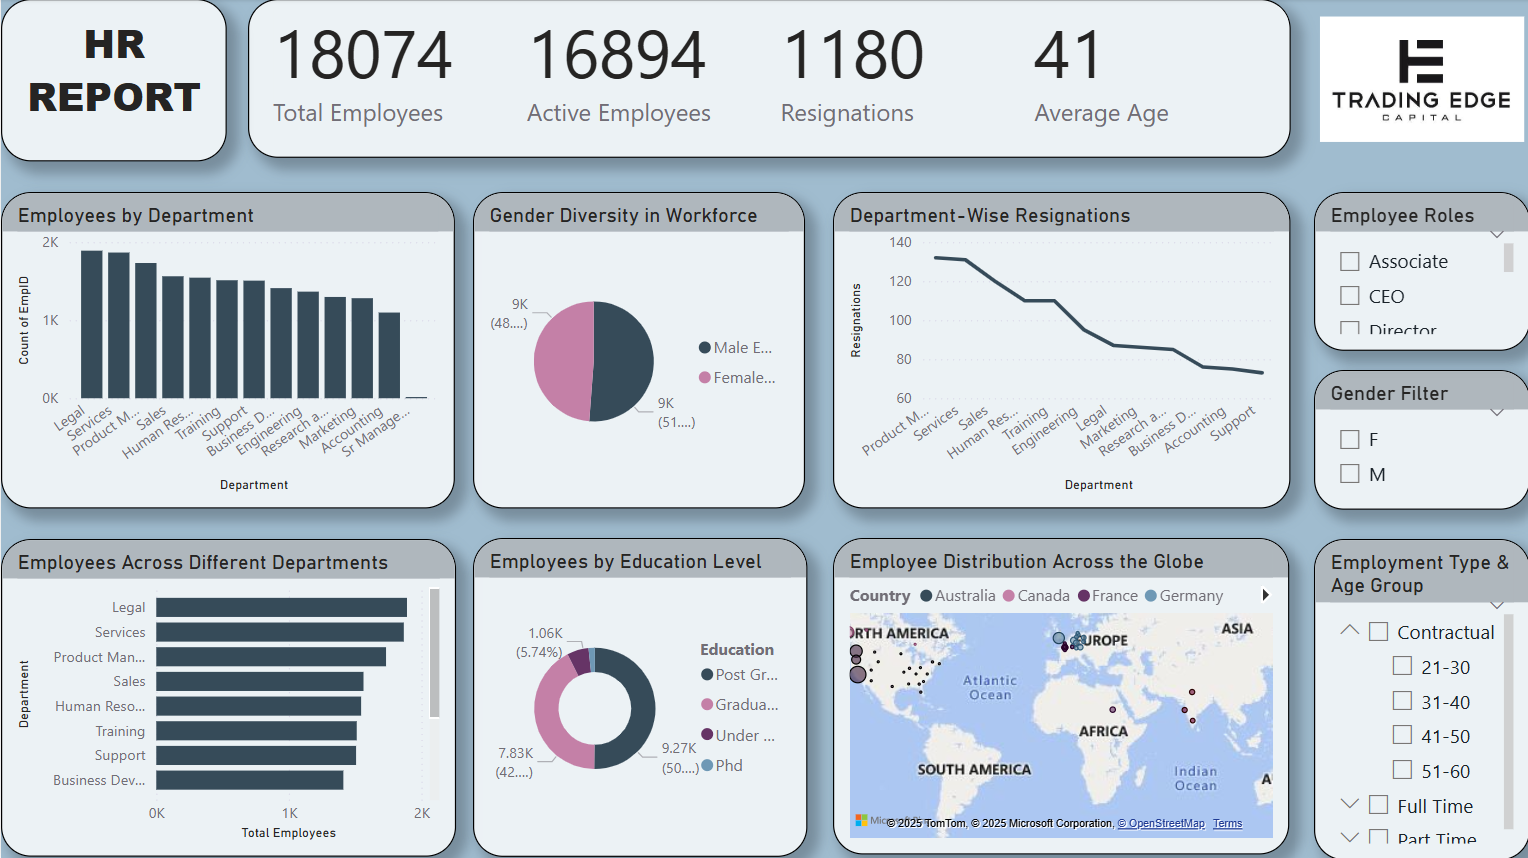

This screenshot's page, from the dashboard's own definition file:
{"tool":"powerbi","page":{"name":"Report","canvas":[1280,720],"ordinal":1},"visuals":[{"type":"multiRowCard","fields":{"Values":["HR_Data.Total Employees","HR_Data.Active Employees","HR_Data.Resignations","Database.Average Age"]},"box":[207,0,872.8,132.8],"z":0},{"type":"columnChart","title":"Employees by Department","fields":{"Category":["Database.Department"],"Y":["CountNonNull(HR_Data.EmpID)"]},"box":[0,161.7,380,265],"z":1000},{"type":"textbox","box":[0,0,189.4,136],"z":2000},{"type":"pieChart","title":"Gender Diversity in Workforce","fields":{"Y":["Database.Male Employees","Database.Female Employees"]},"box":[395,161.7,278.3,265],"z":3000},{"type":"lineChart","title":"Department-Wise Resignations","fields":{"Category":["Database.Department"],"Y":["HR_Data.Resignations"]},"box":[696.7,161.7,383.3,265],"z":4000},{"type":"barChart","title":"Employees Across Different Departments","fields":{"Category":["Database.Department"],"Y":["HR_Data.Total Employees"]},"box":[0,452,381,266],"z":5000},{"type":"donutChart","title":"Employees by Education Level","fields":{"Category":["Database.Education"],"Y":["CountNonNull(Database.Role)"]},"box":[395,451.7,280,266.7],"z":6000},{"type":"map","title":"Employee Distribution Across the Globe","fields":{"Category":["Database.State"],"Size":["HR_Data.Total Employees"],"Series":["Database.Country"]},"box":[696.7,451.7,381.7,265],"z":7000},{"type":"slicer","title":"Employment Type & Age Group","fields":{"Values":["HR_Data.Full/Part Time","Database.Age Group"]},"box":[1099.5,451.8,181.4,268.8],"z":8000},{"type":"slicer","title":"Gender Filter","fields":{"Values":["Database.Gender"]},"box":[1099.5,310.9,181.4,116.6],"z":9000},{"type":"slicer","title":"Employee Roles","fields":{"Values":["Database.Role"]},"box":[1099.5,161.9,181.4,132.8],"z":10000},{"type":"image","box":[1099.1,1.6,181.3,130.4],"z":11000}]}

Visuals, with their boxes in screenshot pixels (x1, y1, x2, y2), scaled from the page's 1280x720 canvas onto the 1528x858 screenshot:
multiRowCard - HR_Data.Total Employees x HR_Data.Active Employees: 247/0/1289/158
"Employees by Department" columnChart: 0/193/454/508
textbox: 0/0/226/162
"Gender Diversity in Workforce" pieChart: 472/193/804/508
"Department-Wise Resignations" lineChart: 832/193/1289/508
"Employees Across Different Departments" barChart: 0/539/455/856
"Employees by Education Level" donutChart: 472/538/806/856
"Employee Distribution Across the Globe" map: 832/538/1287/854
"Employment Type & Age Group" slicer: 1313/538/1527/857
"Gender Filter" slicer: 1313/370/1527/509
"Employee Roles" slicer: 1313/193/1527/351
image: 1312/2/1527/157
